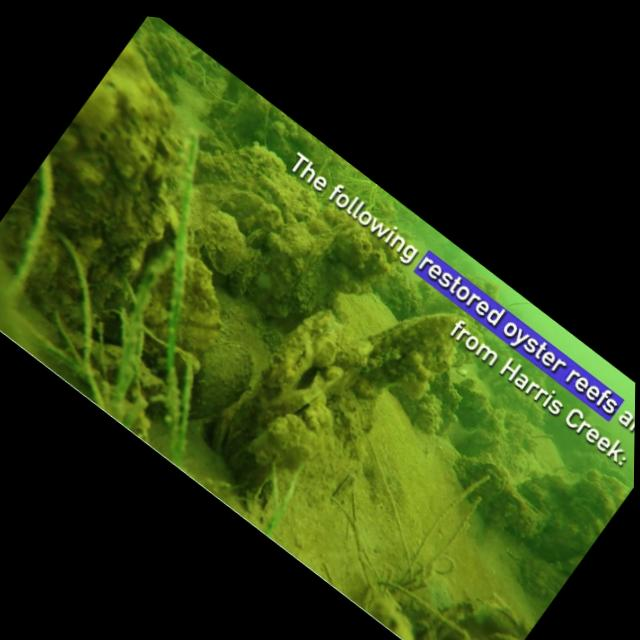Oyster-Closed: (161, 315, 267, 444), (256, 367, 332, 459), (290, 206, 348, 282), (218, 235, 273, 303), (443, 371, 490, 418), (239, 218, 267, 252)
Oyster-Indeterminate: (0, 35, 231, 338), (335, 268, 478, 443), (505, 430, 634, 590), (120, 222, 249, 368), (56, 306, 188, 431), (84, 285, 216, 406), (232, 398, 326, 506), (182, 200, 258, 288), (477, 474, 547, 554), (237, 161, 303, 229), (246, 244, 304, 309), (212, 171, 267, 235), (254, 107, 306, 164), (128, 32, 175, 80), (147, 32, 191, 77), (189, 122, 227, 162), (263, 294, 298, 333)
Oyster-Open: (213, 286, 377, 497), (412, 570, 532, 640), (449, 447, 516, 521), (170, 49, 219, 97)
